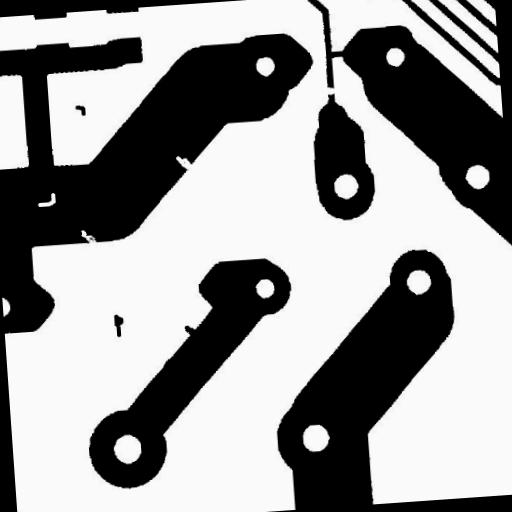copper: (106, 306, 132, 344), (67, 97, 94, 124)
mousebite: (72, 221, 106, 254), (168, 147, 201, 178)
open: (317, 78, 344, 104)
pin-hole: (29, 184, 64, 214)
short: (322, 42, 352, 66)
spur: (176, 316, 205, 343)
